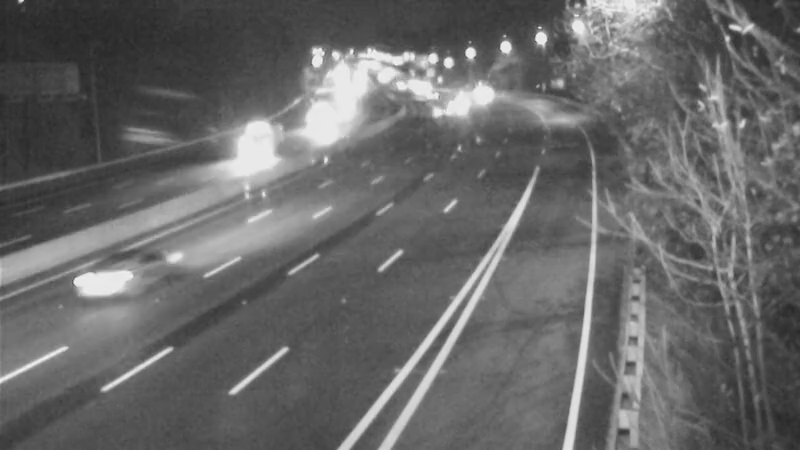vehicle: (63, 235, 143, 315), (458, 69, 508, 119), (404, 67, 454, 117), (435, 78, 485, 128), (417, 84, 467, 134), (223, 122, 273, 172), (292, 104, 342, 154)
